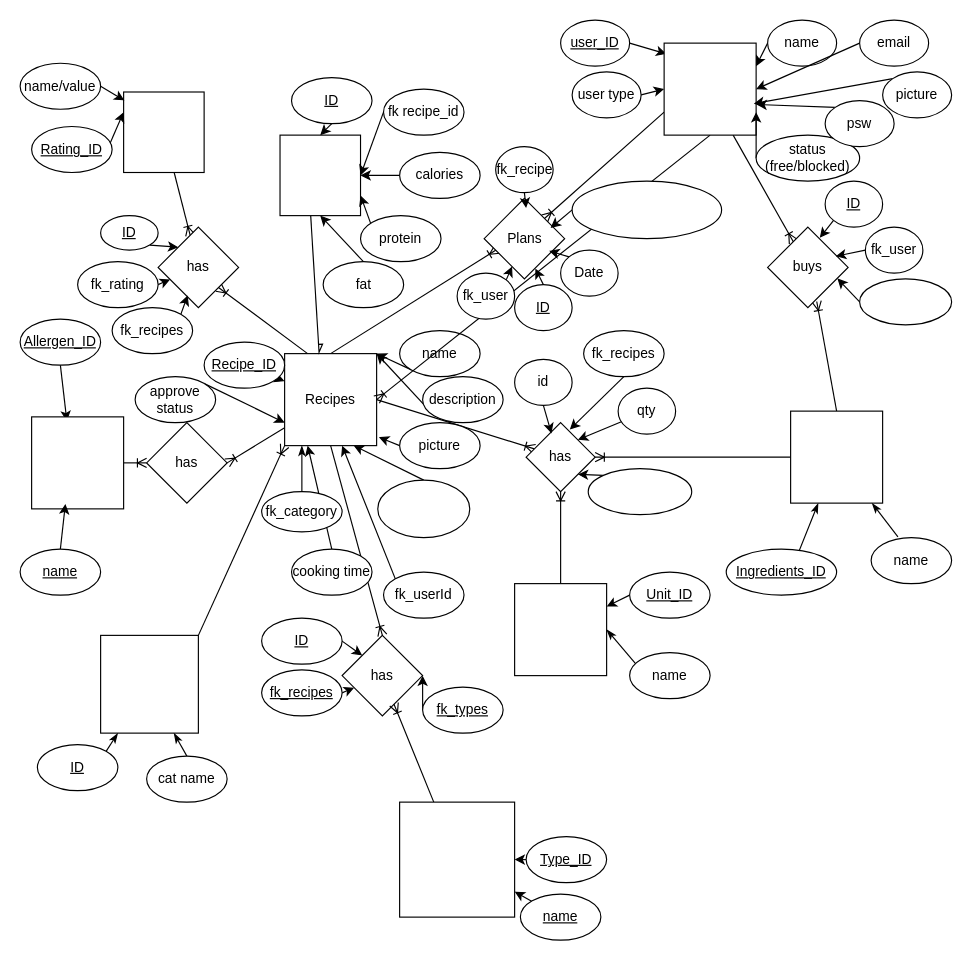
The diagram is 972 pixels wide and 960 high, and some of its shapes have lost their labels. The shapes that lost their labels are listed below. From the top down, each one's box as (x1, y1, x2, y2) in pixels, then its label:
(663, 42, 756, 135): User
(122, 91, 204, 172): Rating
(279, 134, 361, 216): Nutrition
(571, 180, 722, 239): Time (i.e. breakfast/lunch/dinner
(858, 278, 952, 325): fk_ingredient
(30, 416, 124, 509): Allergenes
(789, 410, 883, 503): Ingredients
(377, 479, 470, 538): preparation steps
(587, 467, 692, 515): fk_ingredients
(513, 582, 607, 676): Units
(99, 634, 198, 733): Category (i.e. breakfast/pre-course/main-course/desert
(398, 801, 515, 917): Types (i.e. vegan / glutenfree could be also used as tags
